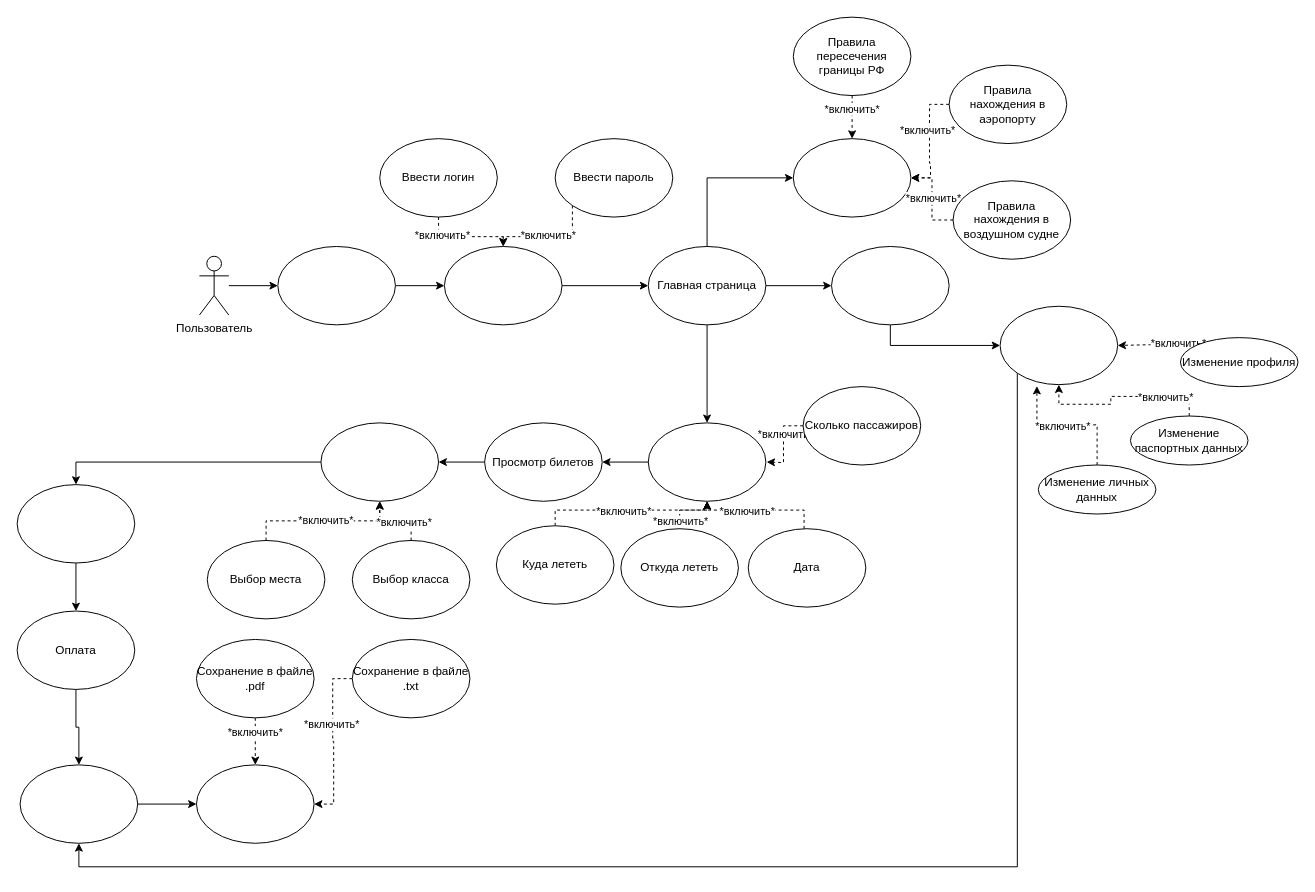
Image size: 1315x892. Some labels were removed from this diagram. The shapes that lost their labels are listed below. From the top down, each one's centre as x and y in pixels, then its label:
At point (851, 177): "Боковое меню Правила".
At point (336, 285): "Запуск приложения".
At point (502, 285): "Авторизация".
At point (890, 285): "Личный кабинет".
At point (1058, 345): "Изменить данные".
At point (379, 461): "Расчёт стоимости".
At point (706, 461): "Поиск билетов".
At point (75, 523): "Переход к оплате".
At point (78, 803): "Информация о рейсе".
At point (255, 803): "Сохранить информацию о рейсе".
